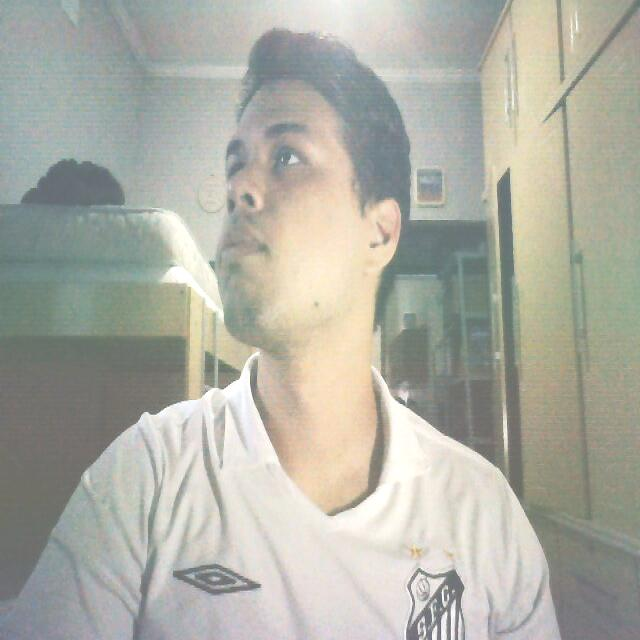acordado: (218, 75, 404, 442)
